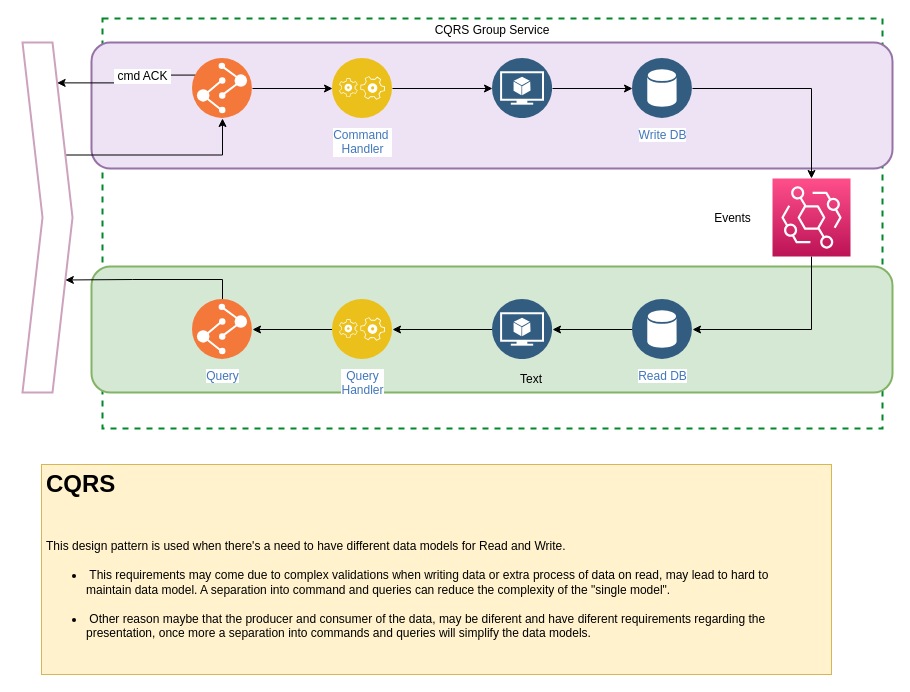
The diagram is 910 pixels wide and 692 high, and some of its shapes have lost their labels. Here are the shapes that lost their labels. From the top down, the centre of each, then its label:
At point (222, 88): "Command".
At point (522, 88): "Write Model".
At point (47, 217): "Clients".
At point (522, 329): "Read Model".
